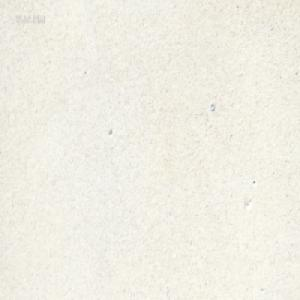Washer: (209, 101, 215, 112)
